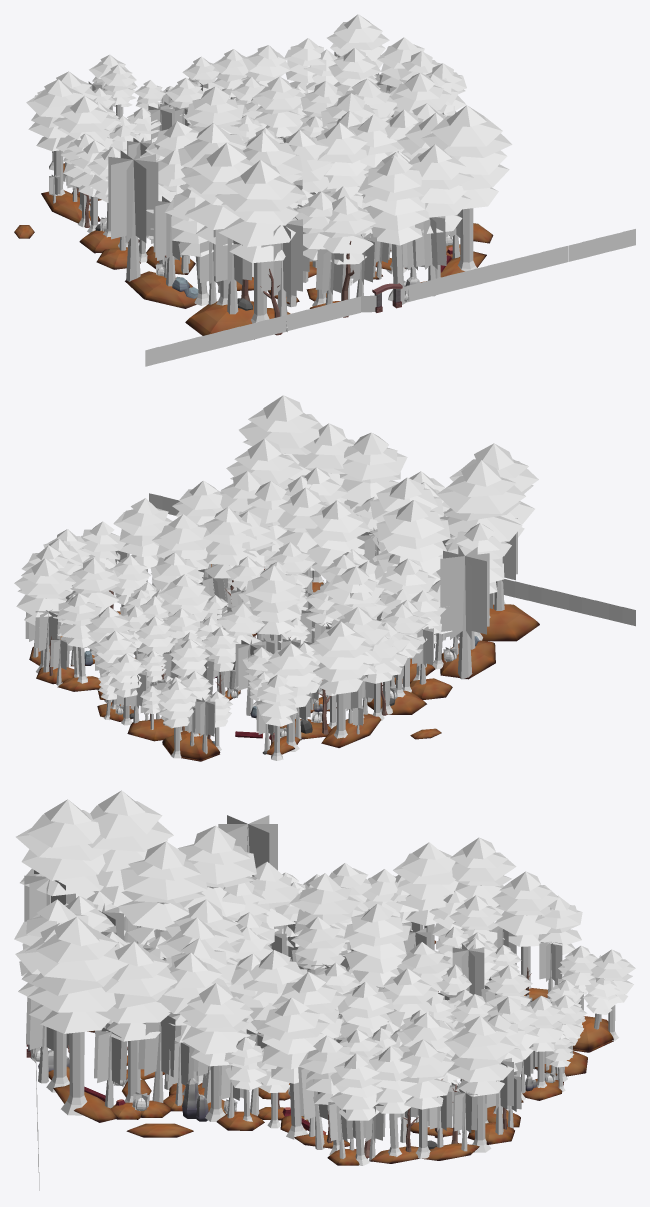
The model's file is florestabraba.fbx.
3 renders of one model, top to bottom at view 1: azimuth 30°, elevation 25°; view 2: azimuth 150°, elevation 25°; view 3: azimuth 270°, elevation 25°, orthographic. The views are drawn at different scales.
Visible parts, largest first — view 1: Cylinder.346, Cylinder.391, Cylinder.368, Cylinder.350, Cylinder.347, Cylinder.364, Cylinder.344, Cylinder.167, Cylinder.426, Cylinder.395, Cylinder.086, Cylinder.189 (+46 smaller); view 2: Cylinder.350, Cylinder.347, Cylinder.336, Cylinder.426, Cylinder.368, Cylinder.391, Cylinder.150, Cylinder.337, Cylinder.271, Cylinder.286, Cylinder.277, Cylinder.270 (+60 smaller); view 3: Cylinder.391, Cylinder.346, Cylinder.363, Cylinder.329, Cylinder.347, Cylinder.210, Cylinder.286, Cylinder.277, Cylinder.150, Cylinder.336, Cylinder.189, Cylinder.270 (+68 smaller).
Boxes of the visible parts, x1,y1,x2,y2 form: Cylinder.346: (215, 160, 305, 323); Cylinder.391: (421, 105, 512, 271); Cylinder.368: (358, 155, 429, 301); Cylinder.350: (108, 150, 158, 281); Cylinder.347: (181, 142, 254, 305); Cylinder.364: (408, 144, 473, 280); Cylinder.344: (318, 196, 375, 300); Cylinder.167: (316, 122, 369, 194); Cylinder.426: (26, 79, 83, 195); Cylinder.395: (261, 219, 302, 332); Cylinder.086: (252, 76, 304, 137); Cylinder.189: (52, 96, 116, 210); Cylinder.350: (440, 546, 489, 679); Cylinder.347: (436, 460, 525, 617); Cylinder.336: (375, 500, 450, 584); Cylinder.426: (309, 621, 372, 738); Cylinder.368: (334, 432, 407, 510); Cylinder.391: (239, 395, 322, 479); Cylinder.150: (245, 565, 302, 651); Cylinder.337: (305, 501, 369, 573); Cylinder.271: (200, 507, 256, 605); Cylinder.286: (14, 558, 75, 673); Cylinder.277: (113, 498, 172, 581); Cylinder.270: (262, 643, 319, 751); Cylinder.391: (24, 917, 128, 1115); Cylinder.346: (16, 799, 110, 904); Cylinder.363: (96, 941, 177, 1102); Cylinder.329: (118, 841, 207, 945); Cylinder.347: (88, 790, 173, 941); Cylinder.210: (178, 983, 253, 1121); Cylinder.286: (444, 1016, 516, 1152); Cylinder.277: (256, 997, 329, 1139); Cylinder.150: (344, 903, 410, 991); Cylinder.336: (177, 825, 256, 922); Cylinder.189: (393, 842, 458, 949); Cylinder.270: (492, 871, 559, 989).
Size of the model in its own units: 89308 by 34214 by 84877.
Materials: 453 (163 with a texture image).
